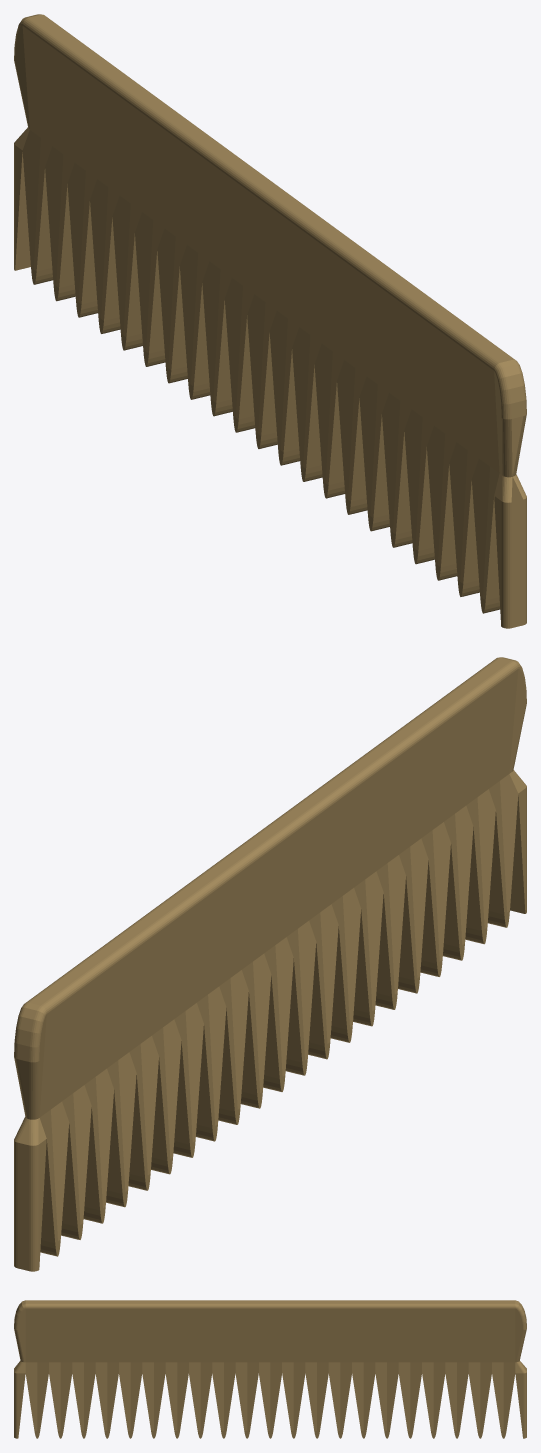
Rendered from Comb.fbx.
3 views of the same model, one above another, from view 1: azimuth 30°, elevation 25°; view 2: azimuth 150°, elevation 25°; view 3: azimuth 270°, elevation 25° (orthographic). The views are drawn at different scales.
Visible parts, largest first — view 1: Cube; view 2: Cube; view 3: Cube.
Part boxes in pixels (x1,y1,x2,y2): Cube: (14, 14, 526, 628); Cube: (14, 657, 526, 1271); Cube: (14, 1300, 526, 1438).
Bounding box in the file's own units: 2.38 × 24.17 × 84.12.
